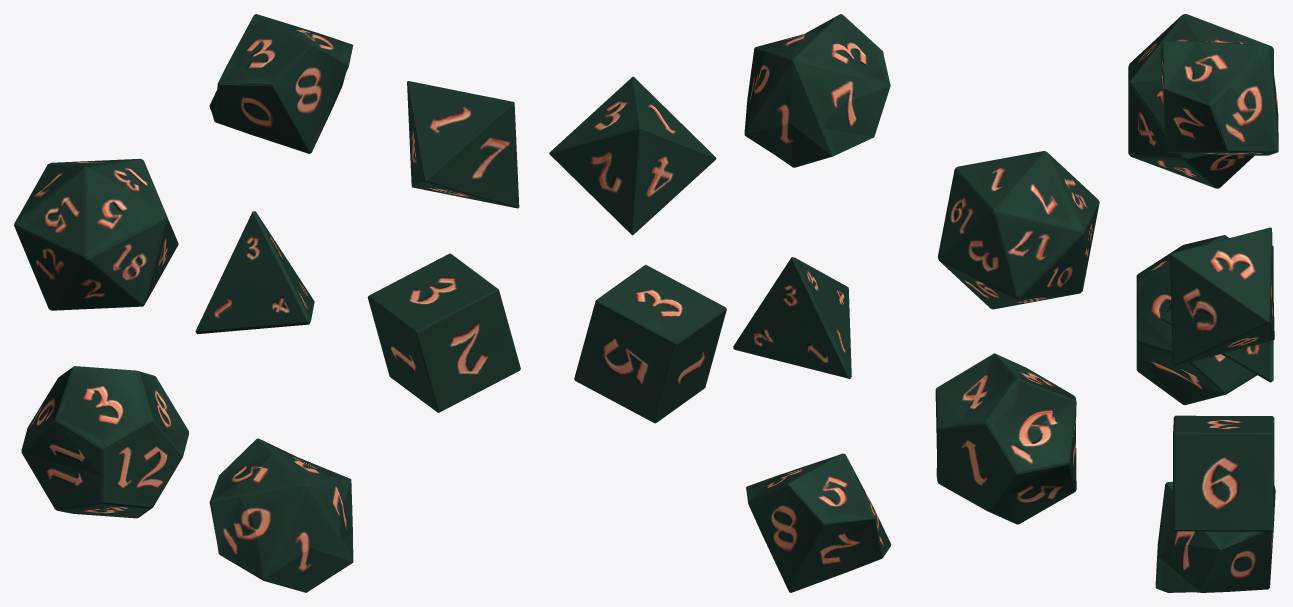
File: dice set.glb
The picture shows the model from 3 angles, left to right: view 1: azimuth 30°, elevation 25°; view 2: azimuth 150°, elevation 25°; view 3: azimuth 270°, elevation 25°; orthographic projection.
Parts seen in each view (by area): view 1: Object.1; view 2: Object.1; view 3: Object.1.
Part boxes in pixels (bbox=[...]): Object.1: bbox=[14, 14, 520, 592]; Object.1: bbox=[549, 14, 1099, 592]; Object.1: bbox=[1128, 14, 1278, 592].
Size of the model in its own units: 33180 by 33939 by 8378.
Materials: 1 (1 with a texture image).
